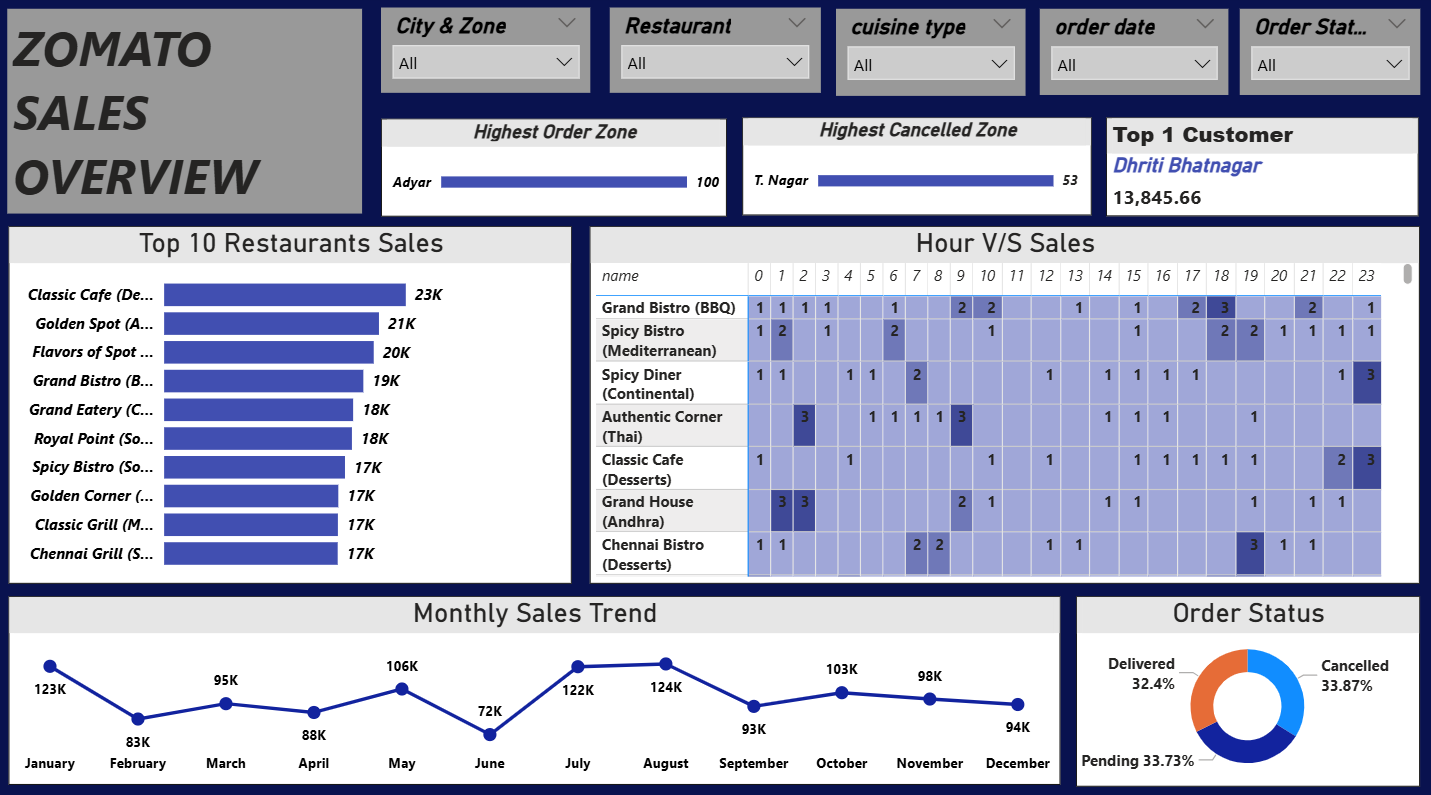

The dashboard page shown, as its layout file describes it:
{"tool":"powerbi","page":{"name":"Overview","canvas":[1280,720],"ordinal":0},"visuals":[{"type":"lineChart","title":" Monthly Sales Trend","fields":{"Category":["orders.order_date.Variation.Date Hierarchy.Month","orders.order_date.Variation.Date Hierarchy.Day"],"Y":["Measure Table.Total Revenue"]},"box":[11,535.4,936.6,168.3],"z":0},{"type":"barChart","title":"Top 10 Restaurants Sales","fields":{"Category":["restaurants.name"],"Y":["Measure Table.Total Revenue"]},"box":[10.9,206.3,501.9,318.5],"z":1000},{"type":"donutChart","title":"Order Status","fields":{"Y":["Measure Table.Total Orders"],"Category":["orders.status"]},"box":[962.2,535.4,306.1,169.5],"z":2000},{"type":"pivotTable","title":"Hour V/S Sales","fields":{"Values":["CountNonNull(orders.order_id)"],"Columns":["orders.Order Hour"],"Rows":["restaurants.name"]},"box":[529.3,206.1,739,318.3],"z":3000},{"type":"slicer","fields":{"Values":["customers.Zone","customers.City"]},"box":[342.7,11,186.6,75.6],"z":4000},{"type":"slicer","fields":{"Values":["restaurants.name"]},"box":[546.3,11,187.8,75.6],"z":5000},{"type":"slicer","fields":{"Values":["restaurants.cuisine_type"]},"box":[748,12.1,168.9,77.2],"z":6000},{"type":"slicer","fields":{"Values":["orders.order_date"]},"box":[929.3,12.2,168.3,76.8],"z":7000},{"type":"slicer","fields":{"Values":["orders.status"]},"box":[1107.3,12.2,161,76.8],"z":8000},{"type":"textbox","box":[10.5,12.8,316.3,182.6],"z":9000},{"type":"barChart","title":"Highest Order   Zone","fields":{"Category":["customers.Zone"],"Y":["Max(customers.total_orders)"]},"box":[342.6,109.8,307.6,86.9],"z":10000},{"type":"barChart","title":"Highest Cancelled   Zone","fields":{"Y":["Measure Table.Cancelled Orders"],"Category":["customers.Zone"]},"box":[664.7,108.6,311.3,86.9],"z":11000},{"type":"multiRowCard","title":"Top 1 Customer","fields":{"Values":["Measure Table 2.Top Customer Revenue","Measure Table 2.Top Customer"]},"box":[988.1,108.6,278.7,88.1],"z":12000}]}

Visuals, with their boxes in screenshot pixels (x1, y1, x2, y2), scaled from the page's 1280x720 canvas onto the 1431x795 screenshot:
" Monthly Sales Trend" lineChart: left=12, top=591, right=1059, bottom=777
"Top 10 Restaurants Sales" barChart: left=12, top=228, right=573, bottom=579
"Order Status" donutChart: left=1076, top=591, right=1418, bottom=778
"Hour V/S Sales" pivotTable: left=592, top=228, right=1418, bottom=579
slicer - customers.Zone x customers.City: left=383, top=12, right=592, bottom=96
slicer - restaurants.name: left=611, top=12, right=821, bottom=96
slicer - restaurants.cuisine_type: left=836, top=13, right=1025, bottom=99
slicer - orders.order_date: left=1039, top=13, right=1227, bottom=98
slicer - orders.status: left=1238, top=13, right=1418, bottom=98
textbox: left=12, top=14, right=365, bottom=216
"Highest Order   Zone" barChart: left=383, top=121, right=727, bottom=217
"Highest Cancelled   Zone" barChart: left=743, top=120, right=1091, bottom=216
"Top 1 Customer" multiRowCard: left=1105, top=120, right=1416, bottom=217
